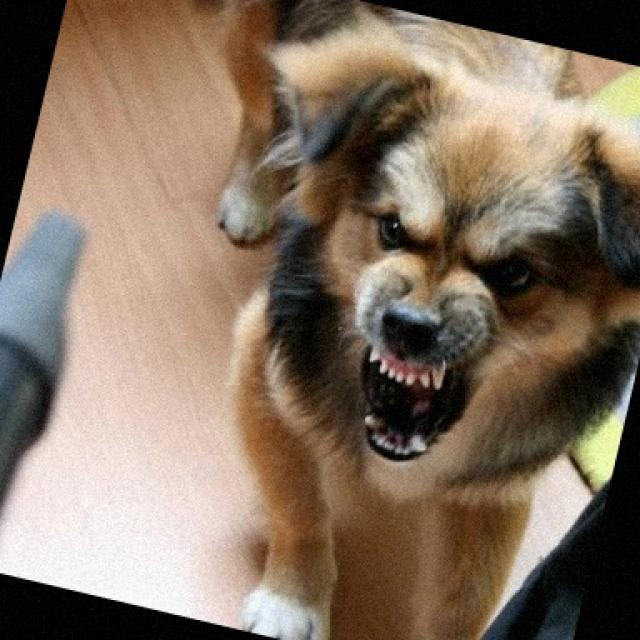angry: (217, 16, 640, 581)
